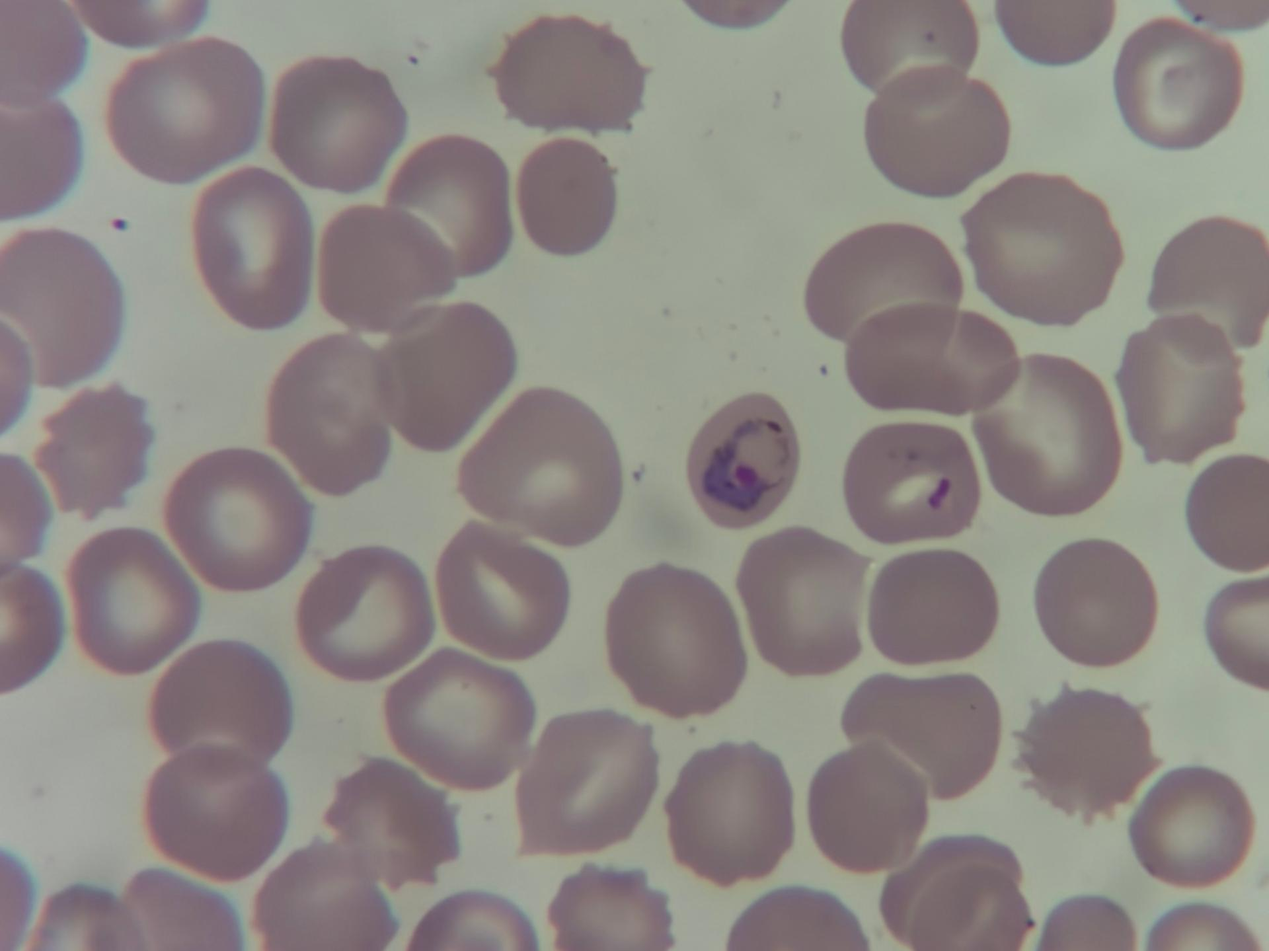Infected: (685, 393, 800, 527)
Uninfected: (457, 389, 620, 546), (961, 173, 1119, 323), (974, 358, 1119, 515), (383, 649, 536, 792), (110, 39, 261, 183), (377, 301, 519, 450), (512, 710, 656, 856), (162, 449, 307, 592), (603, 565, 740, 716), (1011, 681, 1158, 821), (266, 336, 396, 493), (844, 671, 998, 803), (1, 229, 126, 389), (190, 167, 313, 328), (844, 305, 1021, 414), (436, 523, 574, 661), (142, 746, 285, 879), (737, 529, 869, 673), (488, 15, 646, 134), (1116, 316, 1243, 463), (65, 528, 195, 671), (321, 756, 459, 890), (865, 68, 1009, 196), (804, 223, 958, 342), (385, 135, 512, 279), (268, 55, 403, 190), (296, 545, 433, 678), (661, 741, 788, 883), (315, 206, 452, 334), (148, 638, 288, 763), (1113, 17, 1243, 149), (843, 421, 982, 544), (880, 840, 1030, 951), (1148, 216, 1269, 351), (865, 546, 998, 667), (33, 382, 154, 515), (1033, 538, 1156, 668), (806, 743, 926, 875), (256, 846, 397, 948), (1128, 769, 1249, 885), (842, 1, 978, 89), (516, 137, 618, 254), (546, 868, 670, 950), (121, 869, 245, 950)
